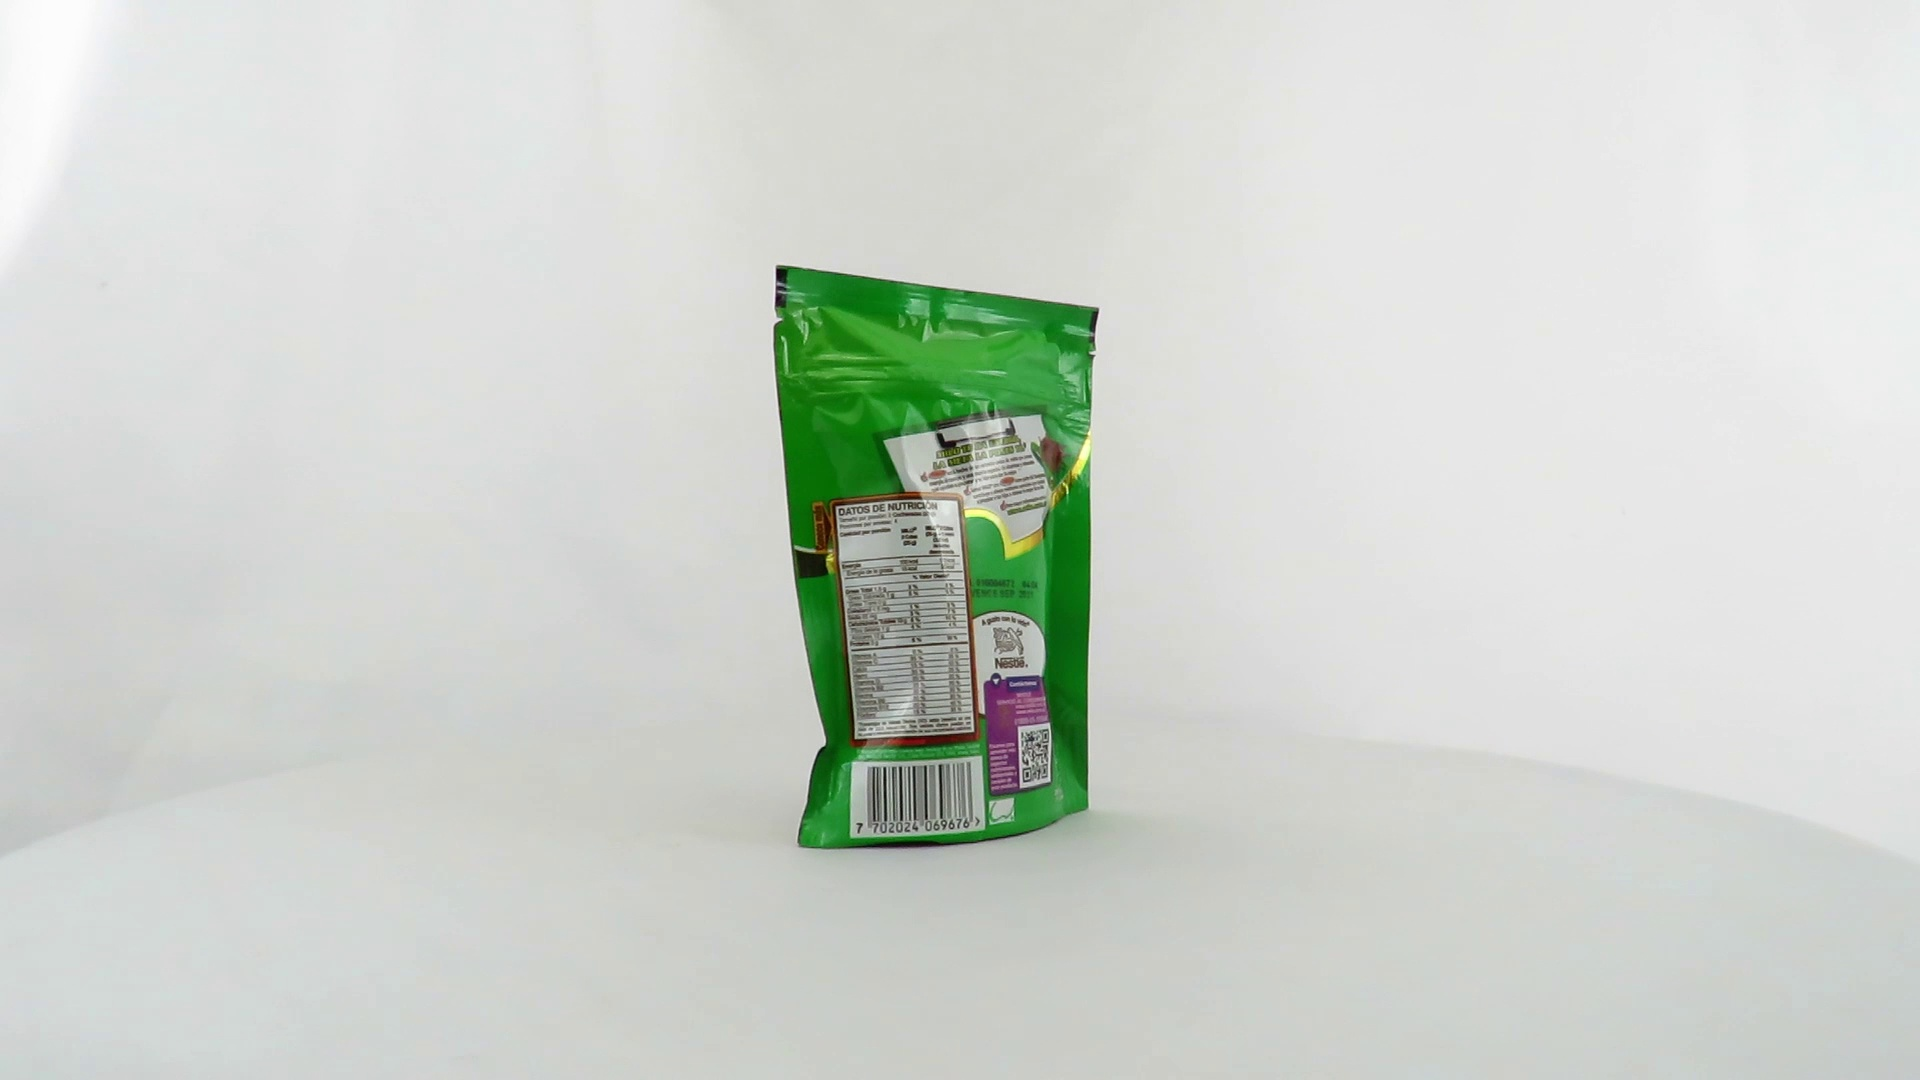COL0170203DYP10000: (767, 260, 1106, 856)
